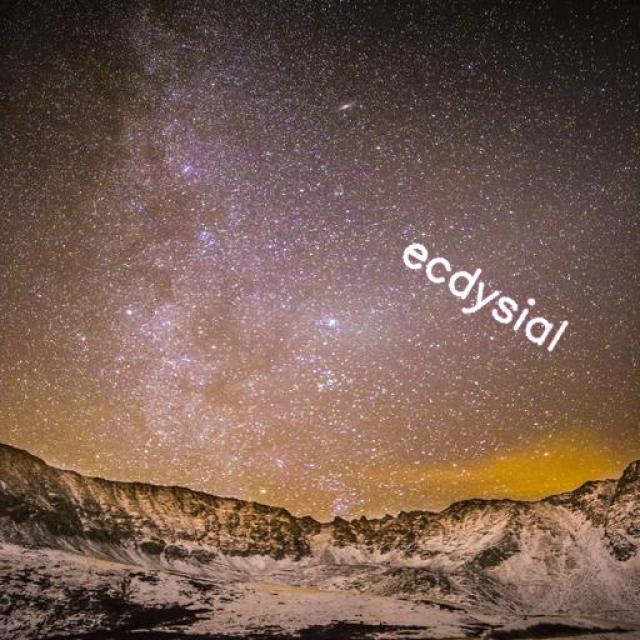watermark: (387, 224, 588, 361)
